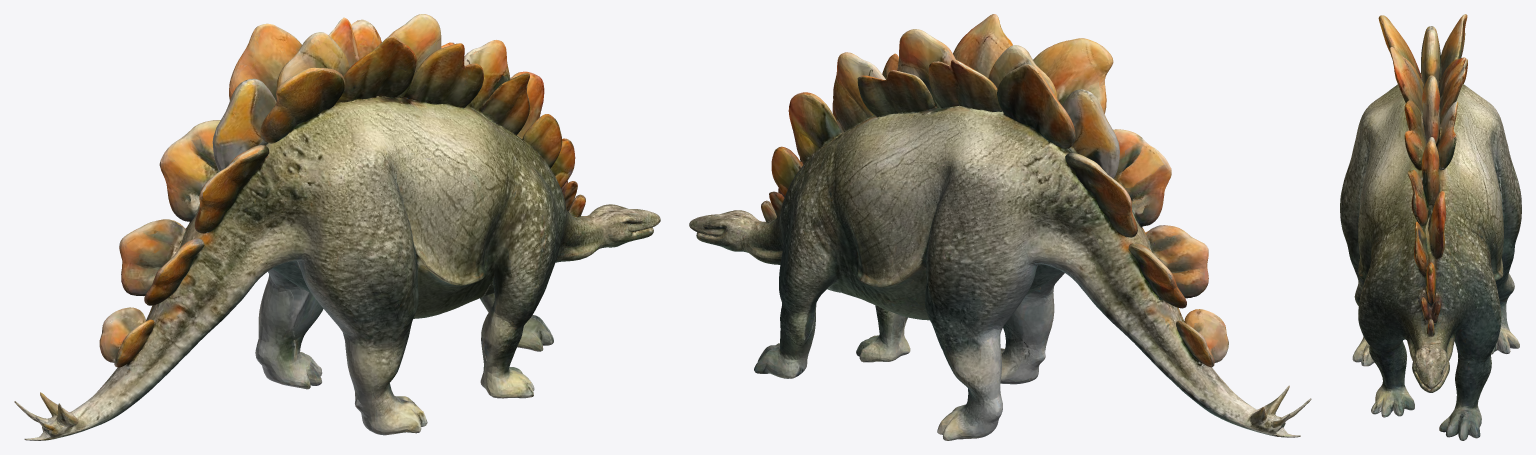
Rendered from stegosaurus.fbx.
The picture shows the model from 3 angles, left to right: view 1: azimuth 30°, elevation 25°; view 2: azimuth 150°, elevation 25°; view 3: azimuth 270°, elevation 25°; orthographic projection. The views are drawn at different scales.
Visible parts, largest first — view 1: world; view 2: world; view 3: world.
Boxes of the visible parts, x1,y1,x2,y2 form: world: (14,14,660,440); world: (689,14,1311,440); world: (1340,14,1521,440).
Bounding box in the file's own units: 199 × 116 × 60.21.
1 material, 1 textured.
